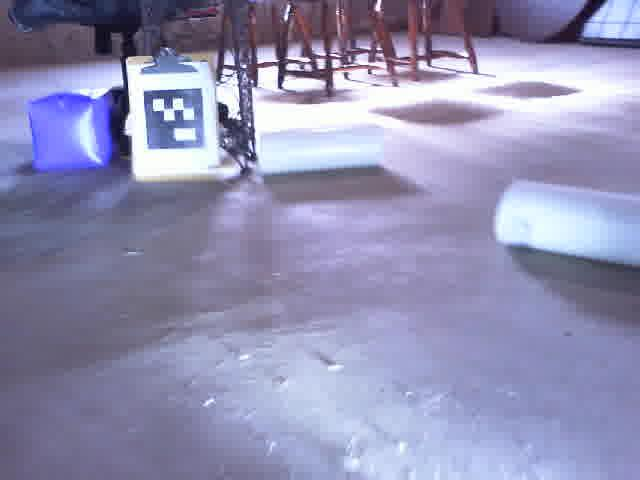coral: (495, 180, 640, 267), (257, 123, 383, 175)
